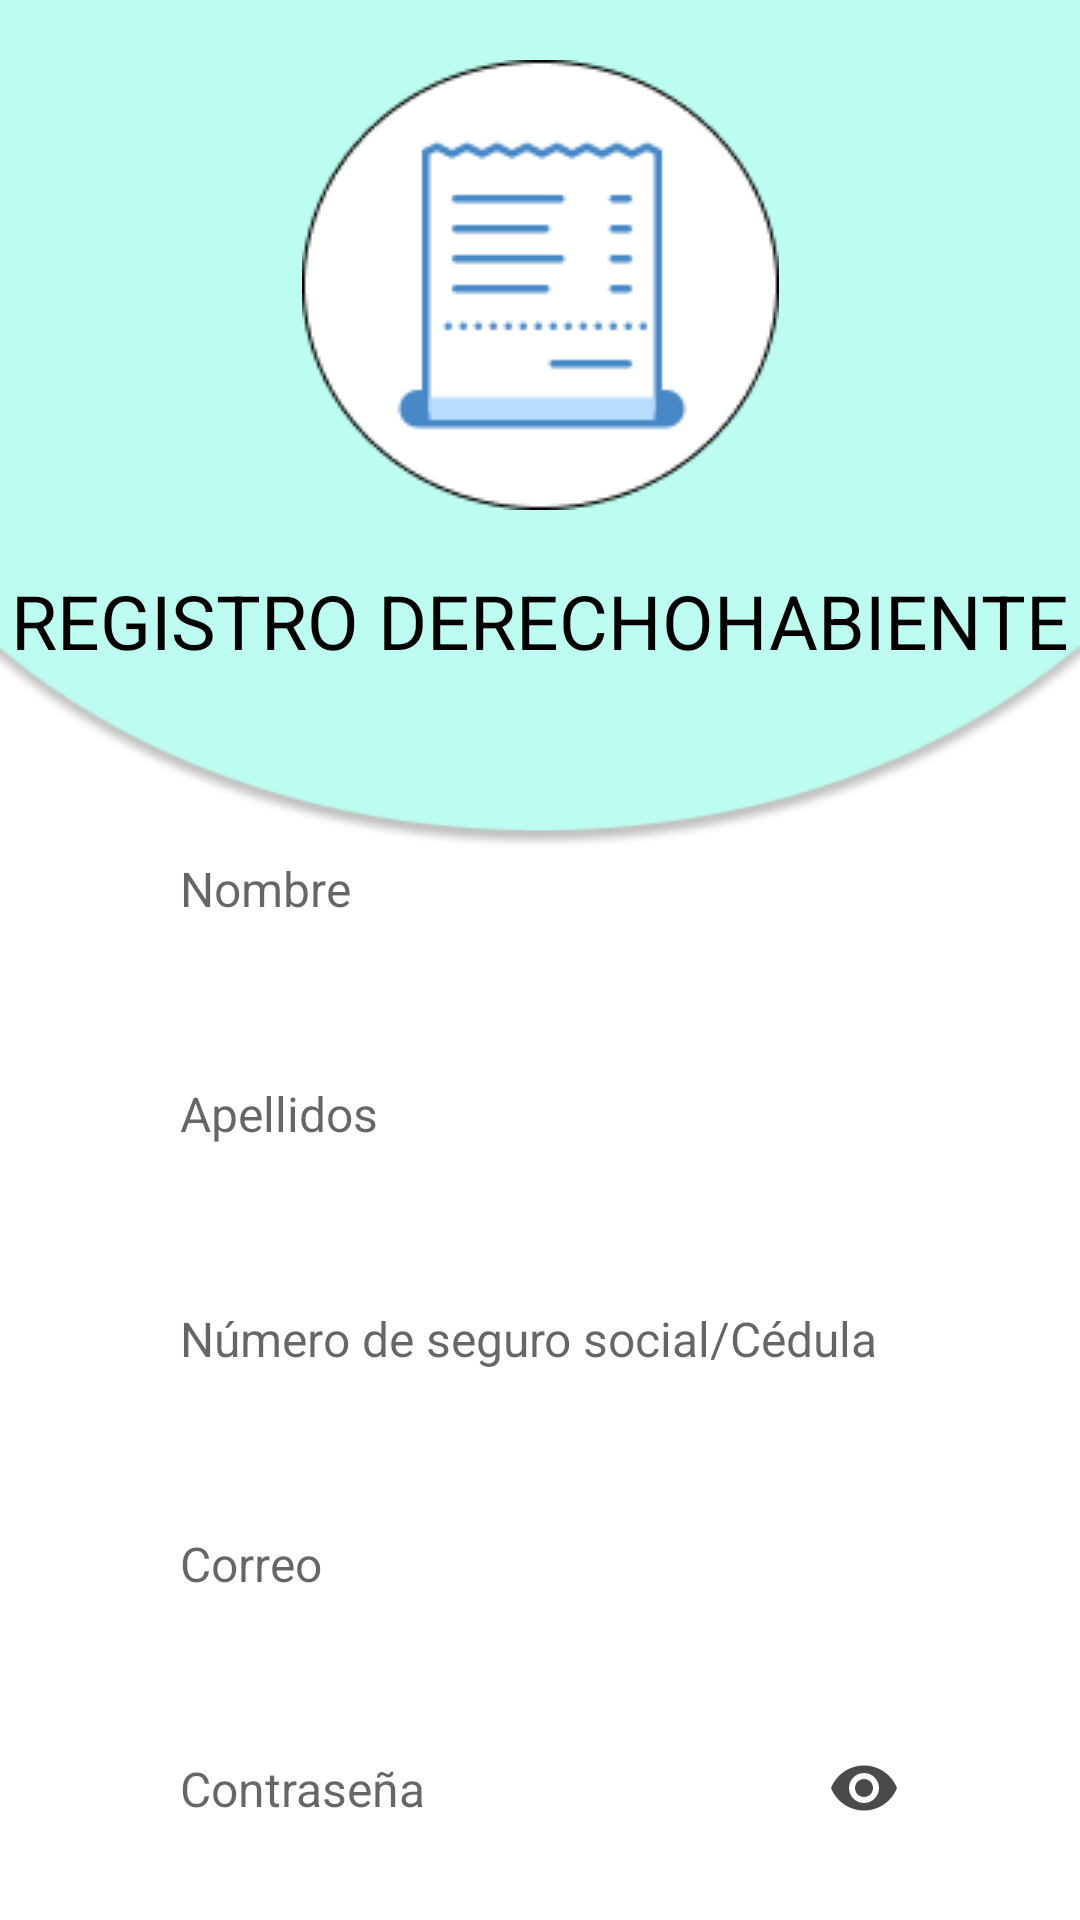

Locate icon controls on the screen. Image size 1080*1920, boxes as [left=x1, top=y1, right=x2, bottom=y2].
show password: [left=831, top=1765, right=897, bottom=1811]
